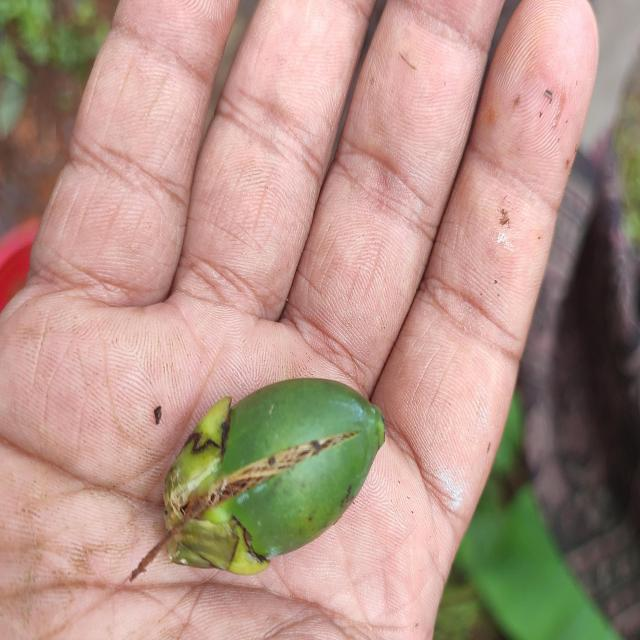damaged: (157, 378, 386, 579)
